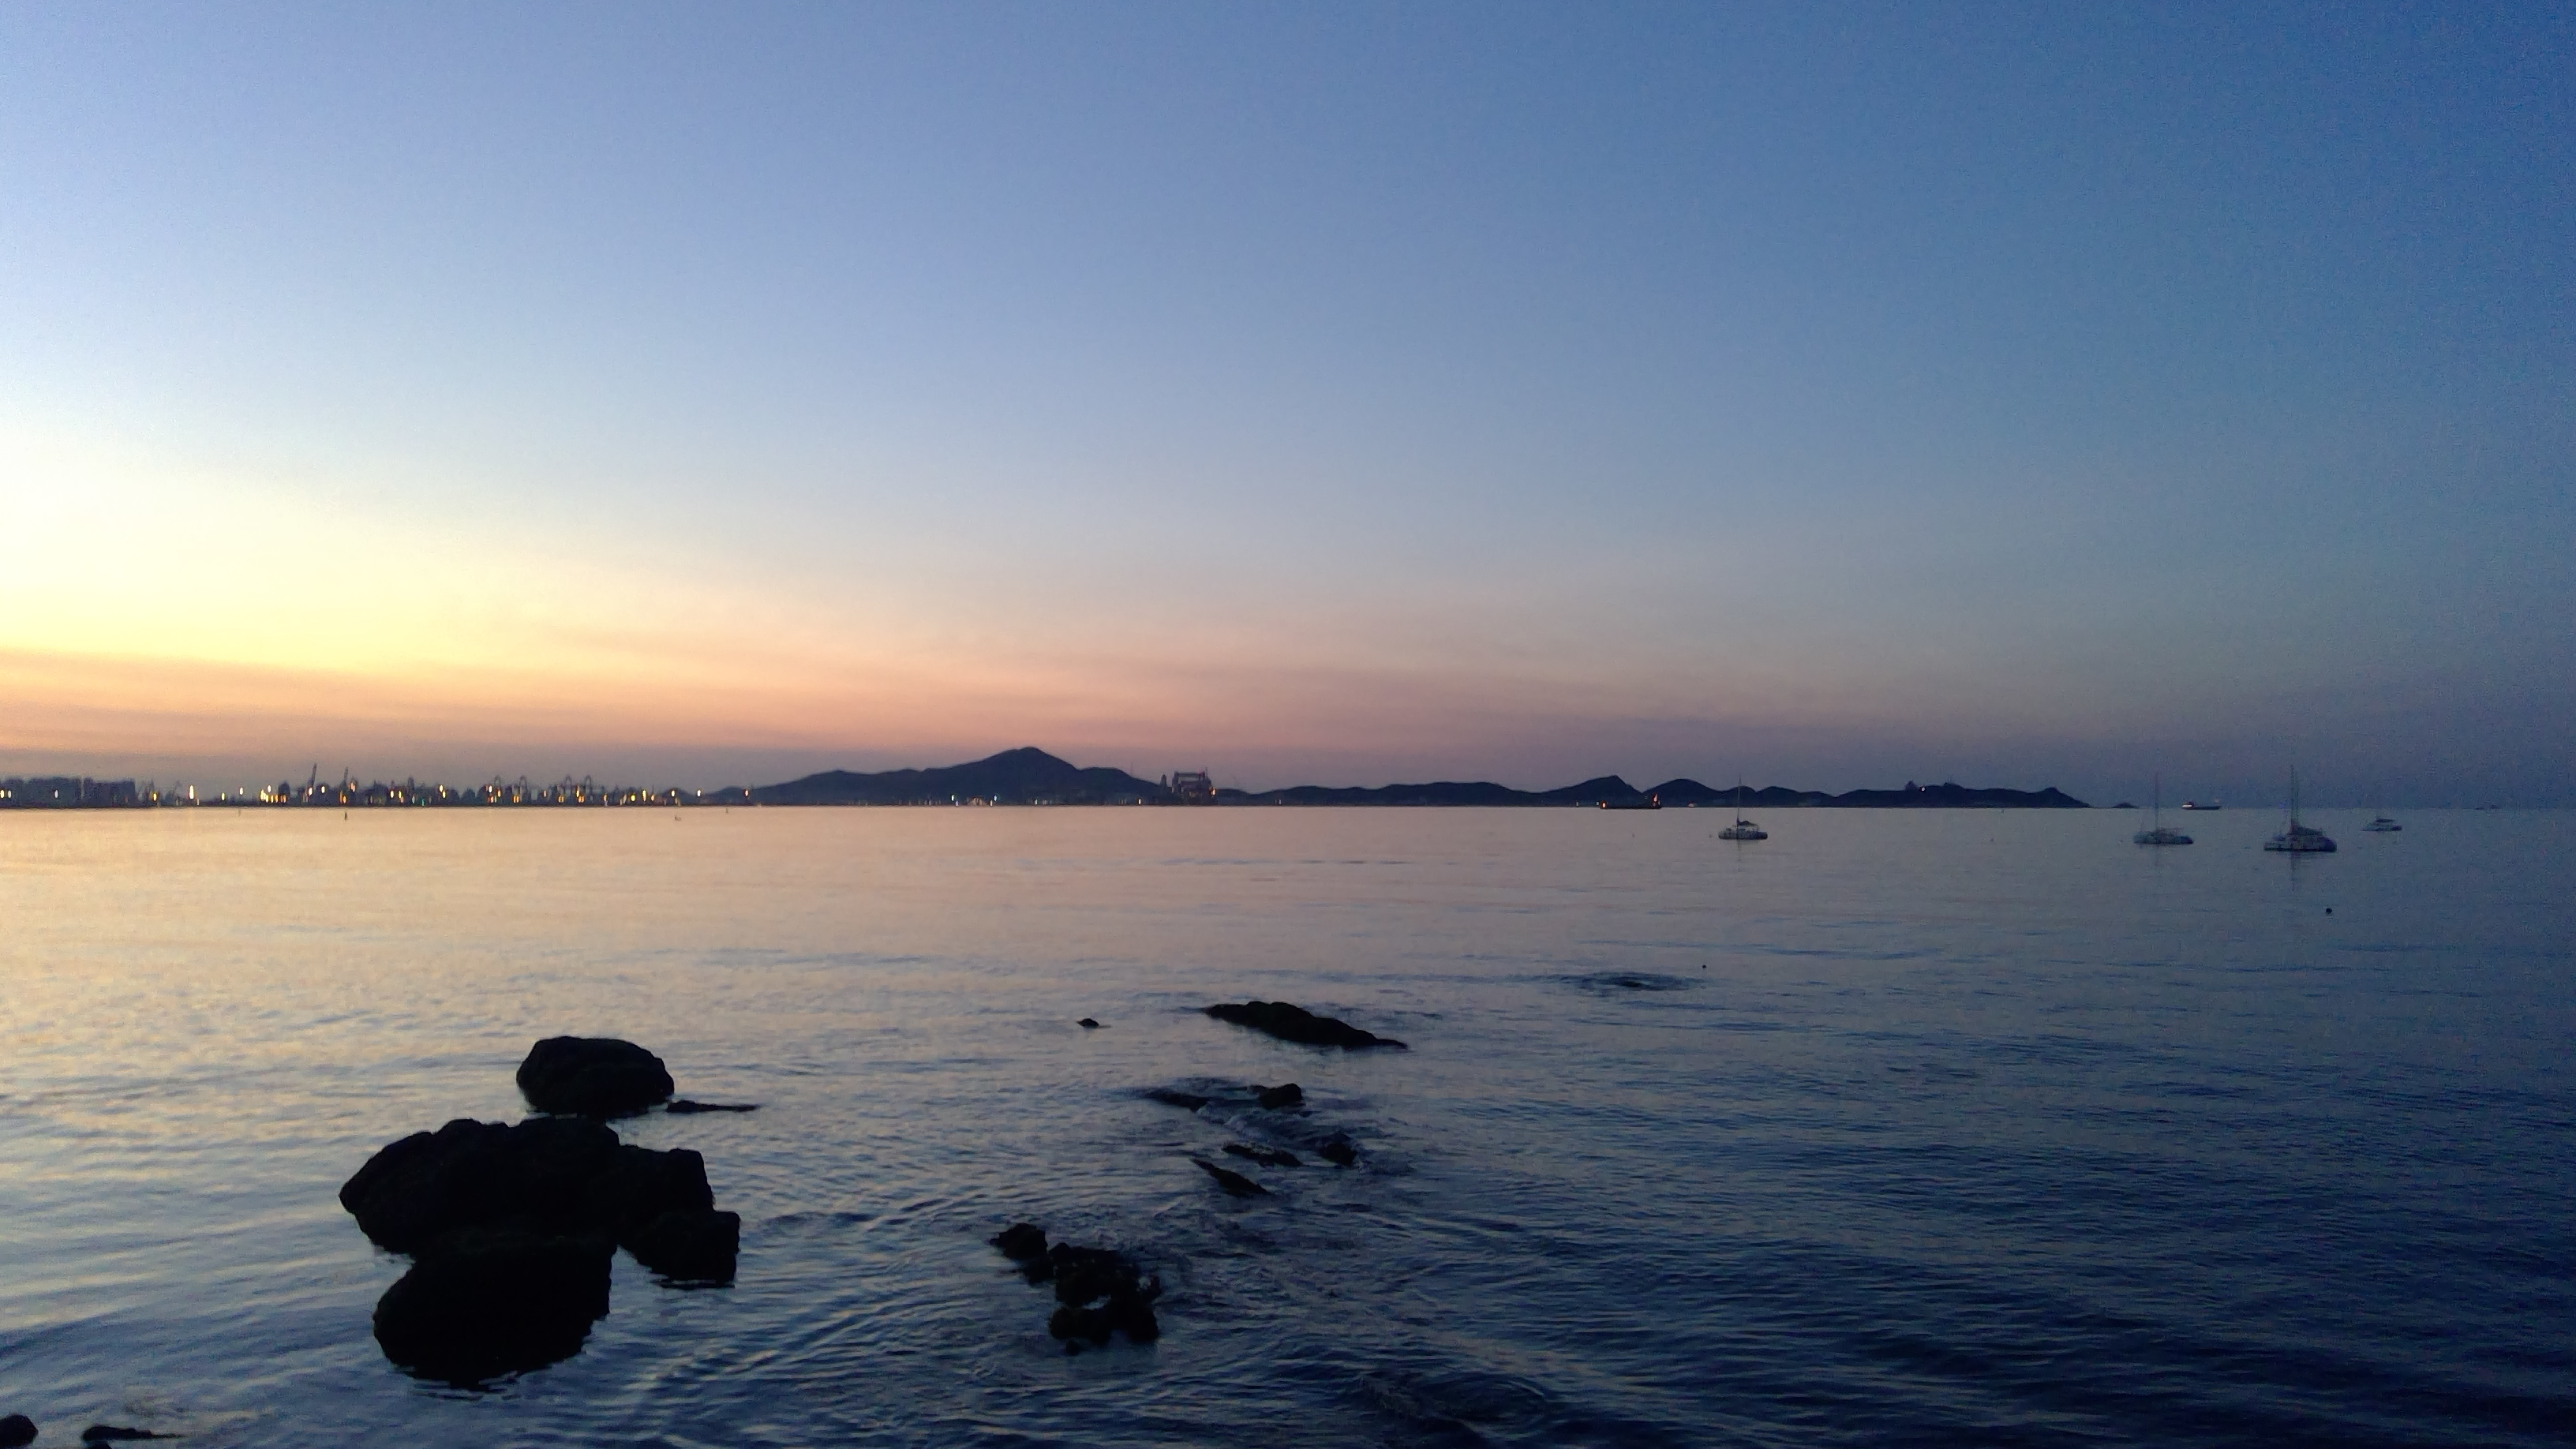boat: (2261, 766, 2339, 870), (2123, 777, 2210, 858)
rock: (333, 996, 766, 1373), (1143, 941, 1421, 1072), (998, 1200, 1238, 1332), (1189, 1122, 1361, 1233), (1592, 943, 1706, 1010)
